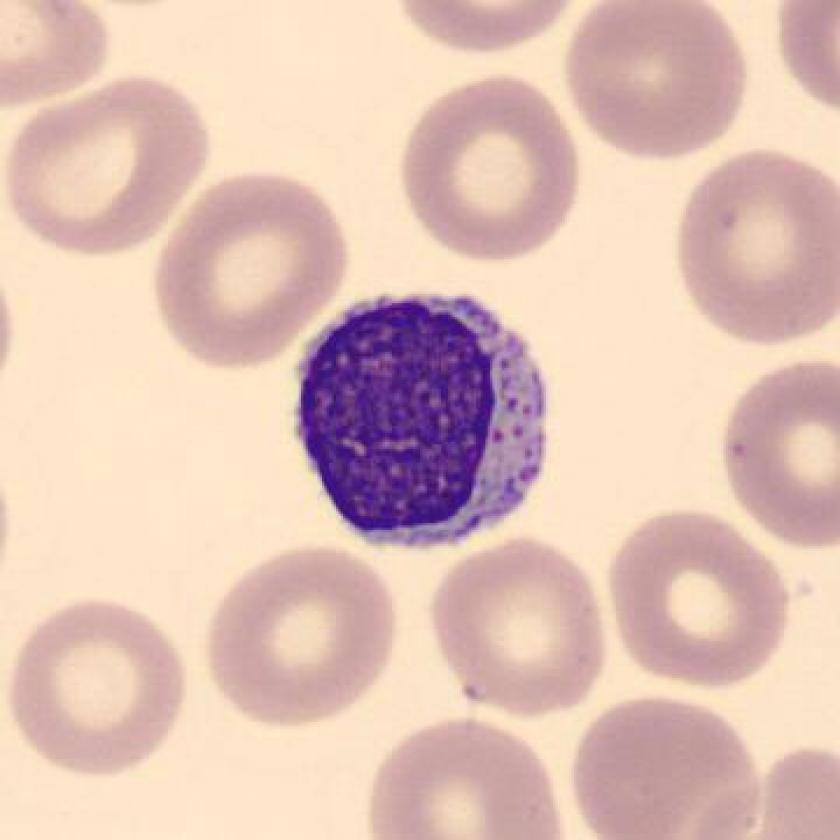lymphocyte: (284, 286, 571, 566)
